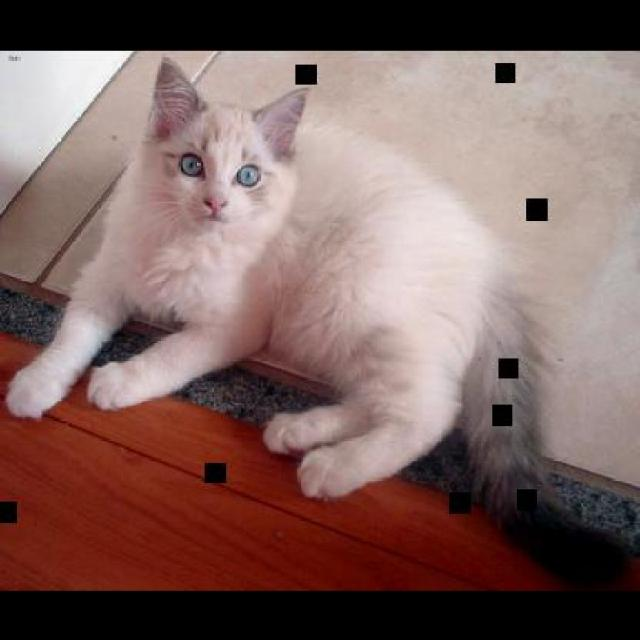unauthorized: (3, 56, 631, 584)
